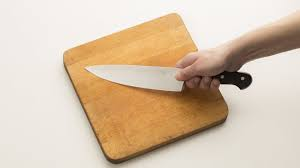knife: (80, 58, 258, 101)
